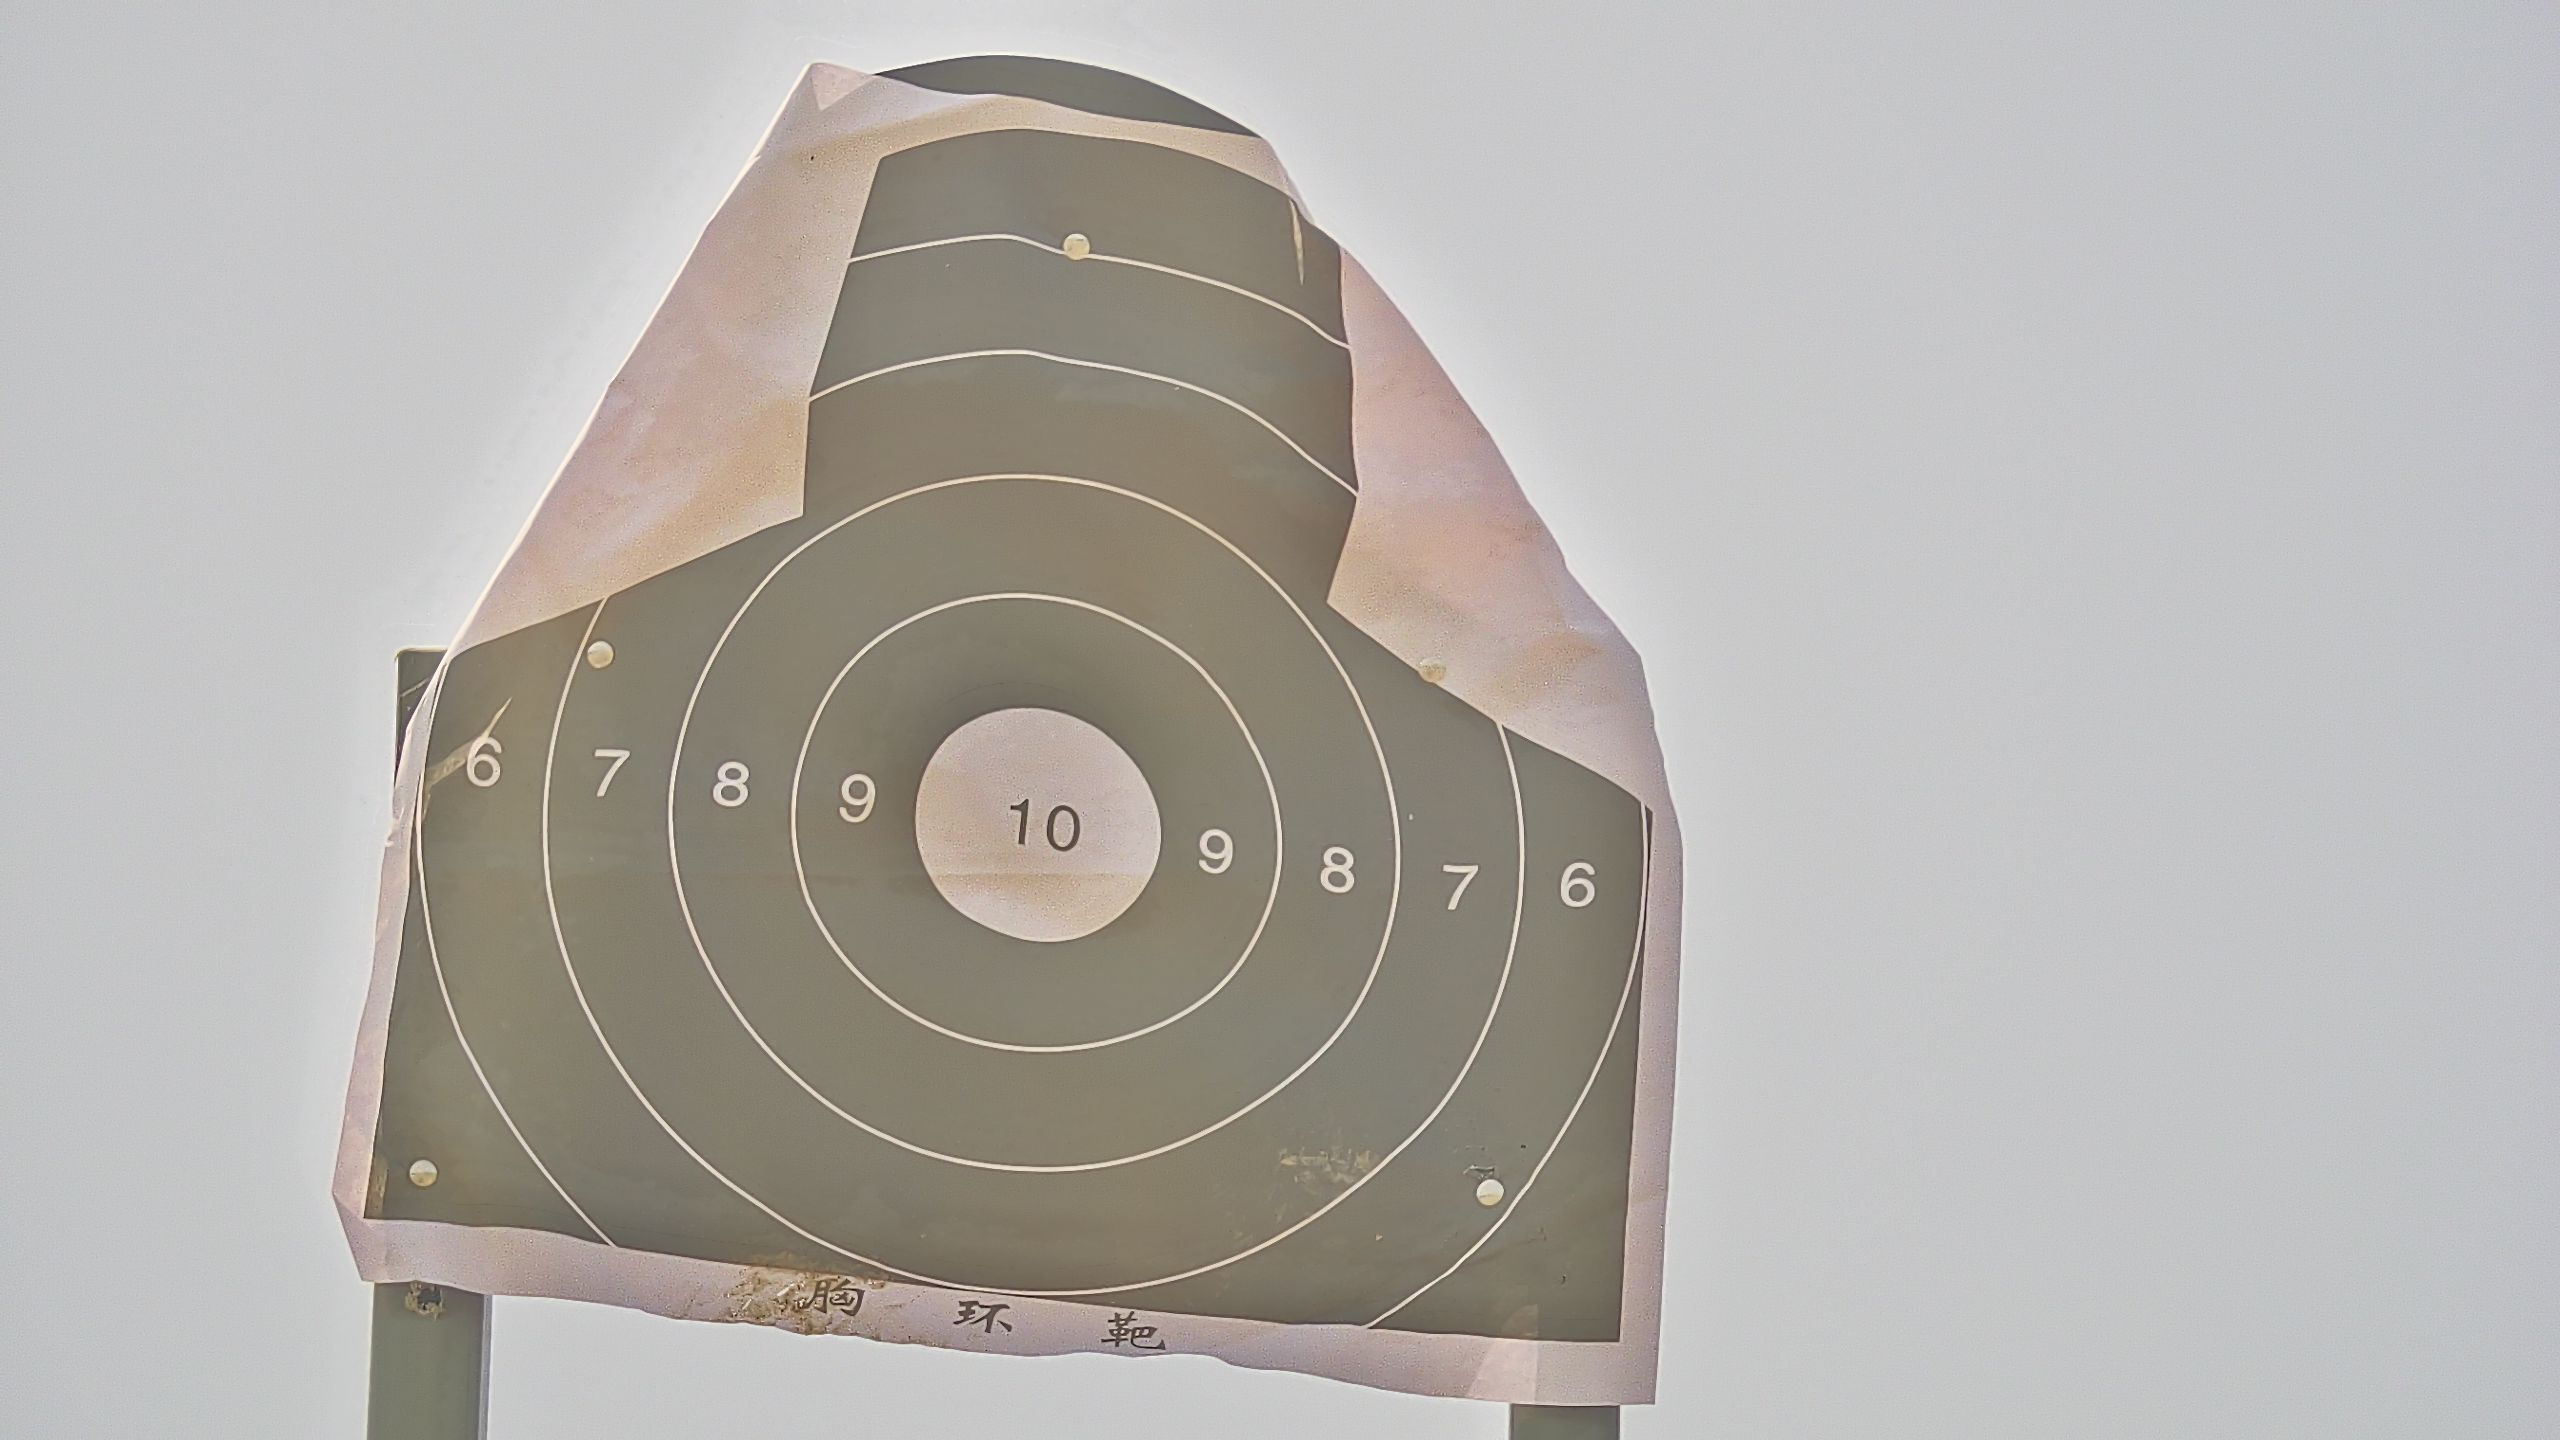kernel: (1029, 825, 1037, 828)
target: (353, 127, 1662, 1343)
ten: (911, 705, 1167, 944)
